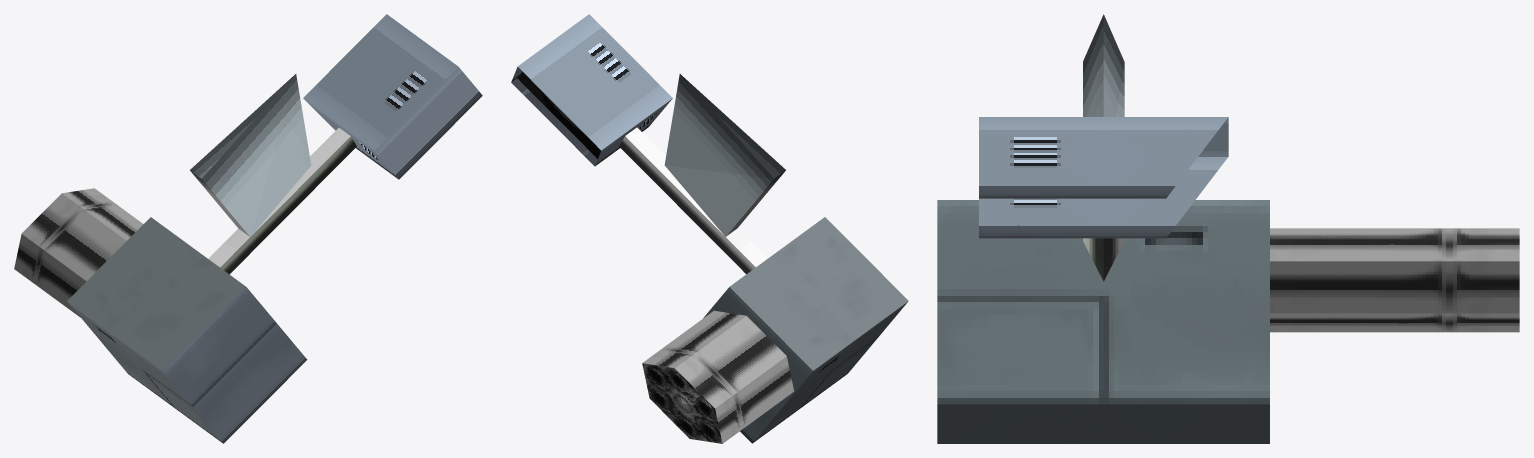
File: drone_gun_primary.glb
3 renders of one model, left to right at view 1: azimuth 30°, elevation 25°; view 2: azimuth 150°, elevation 25°; view 3: azimuth 270°, elevation 25°, orthographic. The views are drawn at different scales.
Parts seen in each view (by area): view 1: Object; view 2: Object; view 3: Object.
Part boxes in pixels (x1,y1,x2,y2): Object: [14, 14, 482, 443]; Object: [511, 14, 908, 443]; Object: [937, 14, 1519, 443].
Size of the model in its own units: 1.81 by 1.61 by 1.58.
19 materials, 19 textured.
